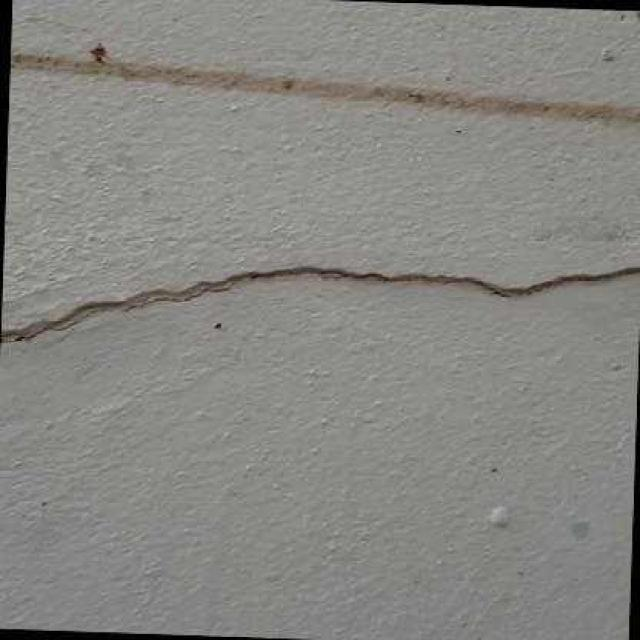D00: (0, 270, 640, 343)
